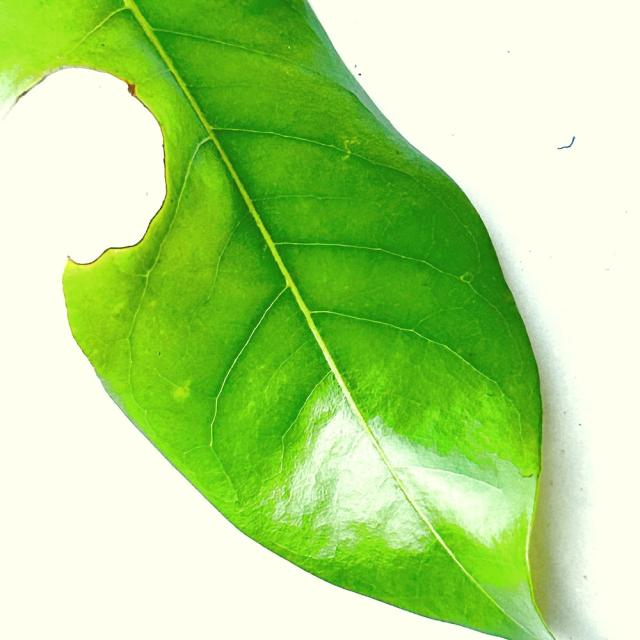Deficiency Leaf: (15, 88, 166, 267)
Lychee: (0, 0, 554, 639)
